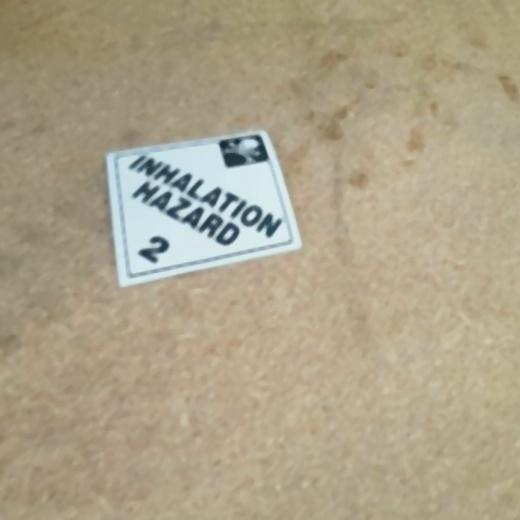poison: (104, 125, 305, 289)
